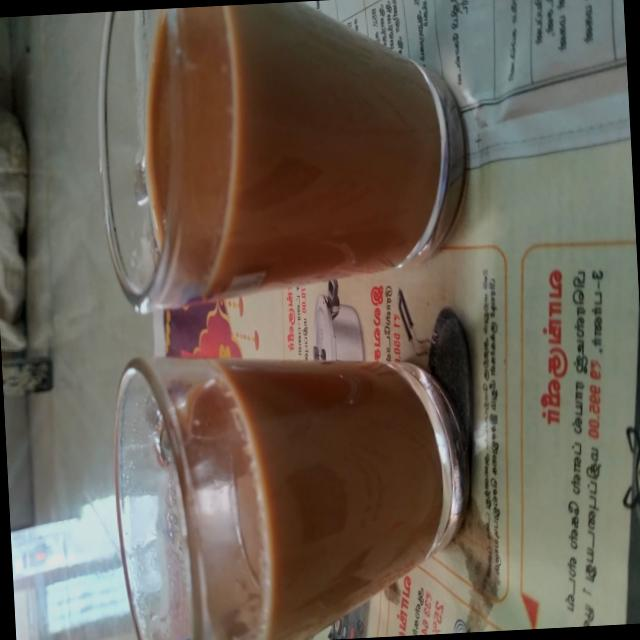glass-VX4N: (96, 0, 484, 640)
